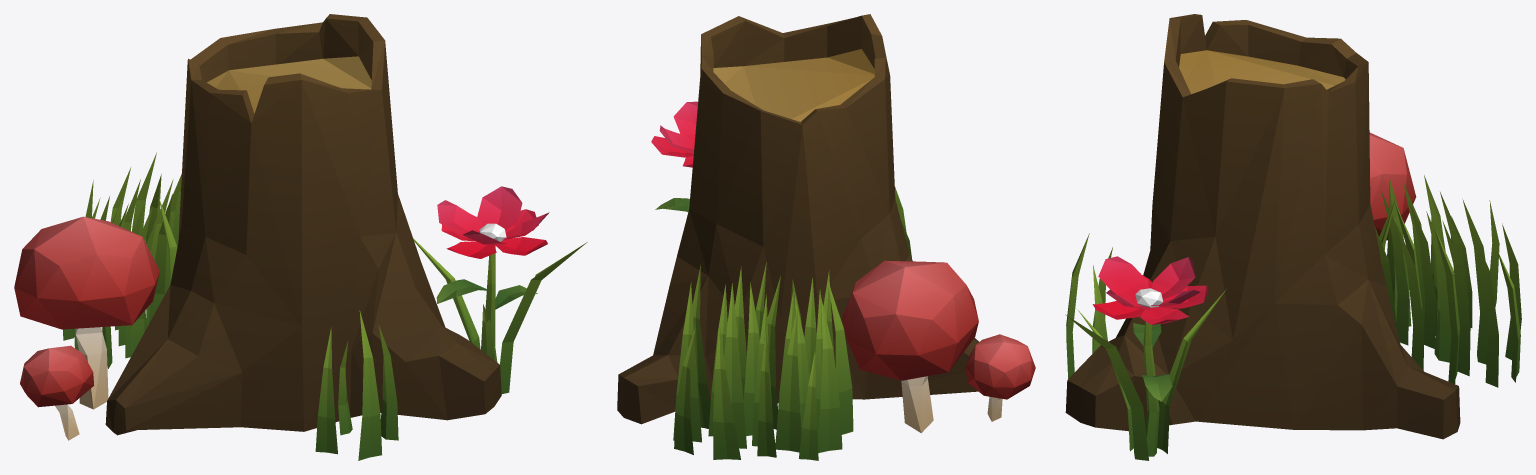
File: Stump_03.fbx
3 views of the same model, side by side, from view 1: azimuth 30°, elevation 25°; view 2: azimuth 150°, elevation 25°; view 3: azimuth 270°, elevation 25° (orthographic). The views are drawn at different scales.
Parts seen in each view (by area): view 1: Stump_03; view 2: Stump_03; view 3: Stump_03.
Part boxes in pixels (bbox=[...]): Stump_03: bbox=[14, 14, 587, 460]; Stump_03: bbox=[617, 14, 1035, 460]; Stump_03: bbox=[1065, 14, 1521, 460].
Size of the model in its own units: 1.01 by 0.7483 by 0.8673.
